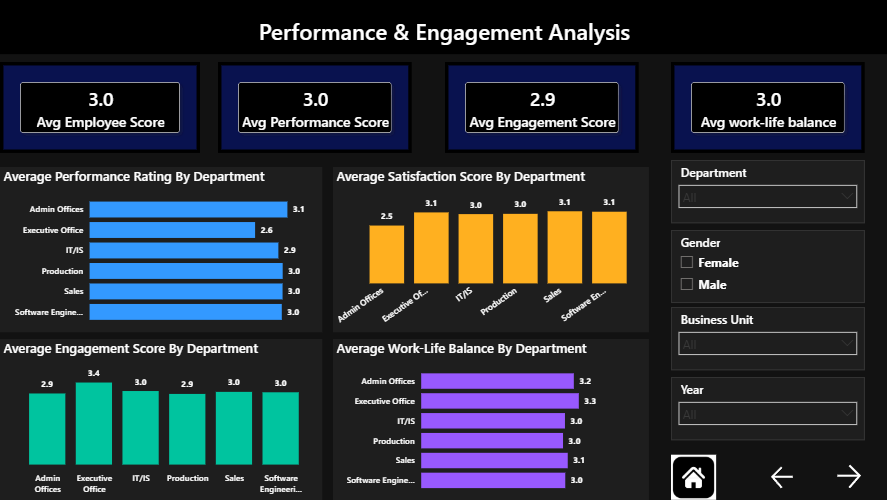

What the dashboard file says about the page in this screenshot:
{"tool":"powerbi","page":{"name":"Performance & Engagement Analysis","canvas":[1280,720],"ordinal":2},"visuals":[{"type":"cardVisual","fields":{"Data":["Date_Table.Average Engagement Score"]},"box":[640.8,89.3,279.4,131],"z":0},{"type":"cardVisual","fields":{"Data":["Date_Table.Average work-life balance"]},"box":[966.2,89.3,279.4,131],"z":1000},{"type":"cardVisual","fields":{"Data":["Date_Table.Average Employee rating"]},"box":[0,89.3,288,131],"z":2000},{"type":"cardVisual","fields":{"Data":["Date_Table.Average Performance rating"]},"box":[313.9,89.3,279.4,131],"z":3000},{"type":"clusteredBarChart","title":"Average Performance Rating By Department","fields":{"Category":["HR_DATA.Department"],"Y":["Date_Table.Average Performance rating"]},"box":[0,240.5,463.7,237.6],"z":4000},{"type":"clusteredColumnChart","title":"Average Engagement Score By Department","fields":{"Category":["HR_DATA.Department"],"Y":["Date_Table.Average Engagement Score"]},"box":[0,488.2,463.7,231.8],"z":5000},{"type":"clusteredColumnChart","title":"Average Satisfaction Score By Department","fields":{"Category":["HR_DATA.Department"],"Y":["Date_Table.Average Satisfaction Score"]},"box":[479.5,240.5,455,237.6],"z":6000},{"type":"clusteredBarChart","title":"Average Work-Life Balance By Department","fields":{"Y":["Date_Table.Average work-life balance"],"Category":["HR_DATA.Department"]},"box":[479.5,488.2,455,231.8],"z":7000},{"type":"slicer","fields":{"Values":["HR_DATA.Department"]},"box":[966.2,230.4,279.4,90.7],"z":8000},{"type":"slicer","fields":{"Values":["HR_DATA.Gender"]},"box":[966.2,331.2,279.4,105.1],"z":9000},{"type":"slicer","fields":{"Values":["HR_DATA.Business Unit"]},"box":[966.2,442.1,279.4,90.7],"z":10000},{"type":"slicer","fields":{"Values":["Date_Table.Year"]},"box":[966.2,542.9,279.4,90.7],"z":11000},{"type":"image","box":[966.2,653.8,64.8,66.2],"z":12000},{"type":"actionButton","box":[1199.5,663.8,59,44.6],"z":13000},{"type":"actionButton","box":[1105.9,666.7,66.2,41.8],"z":14000},{"type":"textbox","box":[0,0,1280.2,77.8],"z":15000}]}

Visuals, with their boxes in screenshot pixels (x1, y1, x2, y2), scaled from the page's 1280x720 canvas onto the 887x500 screenshot:
cardVisual - Date_Table.Average Engagement Score: (left=444, top=62, right=638, bottom=153)
cardVisual - Date_Table.Average work-life balance: (left=670, top=62, right=863, bottom=153)
cardVisual - Date_Table.Average Employee rating: (left=0, top=62, right=200, bottom=153)
cardVisual - Date_Table.Average Performance rating: (left=218, top=62, right=411, bottom=153)
"Average Performance Rating By Department" clusteredBarChart: (left=0, top=167, right=321, bottom=332)
"Average Engagement Score By Department" clusteredColumnChart: (left=0, top=339, right=321, bottom=499)
"Average Satisfaction Score By Department" clusteredColumnChart: (left=332, top=167, right=648, bottom=332)
"Average Work-Life Balance By Department" clusteredBarChart: (left=332, top=339, right=648, bottom=499)
slicer - HR_DATA.Department: (left=670, top=160, right=863, bottom=223)
slicer - HR_DATA.Gender: (left=670, top=230, right=863, bottom=303)
slicer - HR_DATA.Business Unit: (left=670, top=307, right=863, bottom=370)
slicer - Date_Table.Year: (left=670, top=377, right=863, bottom=440)
image: (left=670, top=454, right=714, bottom=499)
actionButton: (left=831, top=461, right=872, bottom=492)
actionButton: (left=766, top=463, right=812, bottom=492)
textbox: (left=0, top=0, right=886, bottom=54)
